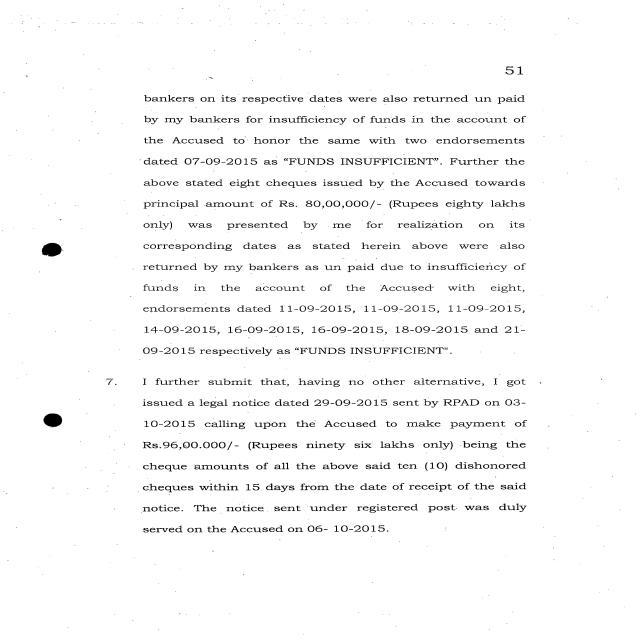page-number: (388, 17, 638, 90)
